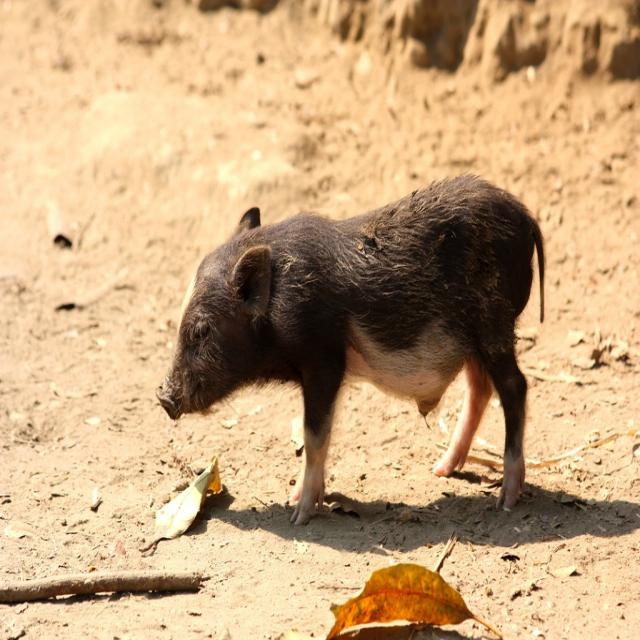Pig: (155, 166, 546, 511)
